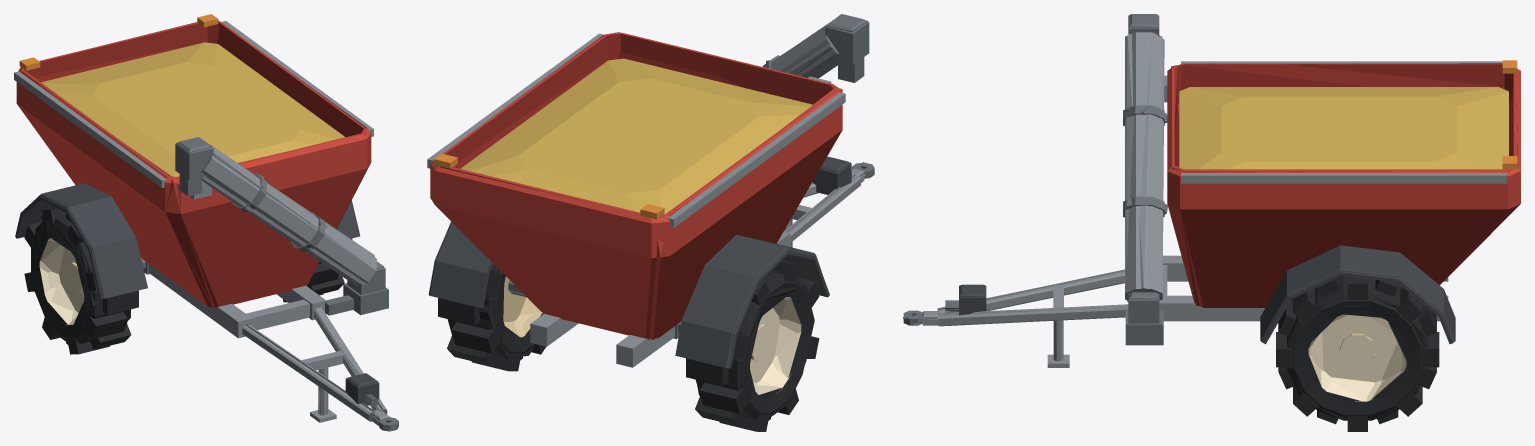
Rendered from FMS_Mach_GrainCart.fbx.
3 renders of one model, left to right at view 1: azimuth 30°, elevation 25°; view 2: azimuth 150°, elevation 25°; view 3: azimuth 270°, elevation 25°, orthographic. The views are drawn at different scales.
Visible parts, largest first — view 1: Hopper, Load_Grain, Load_Grain_Low1, Auger_Unload, Wheel_R, Hopper_Low1, Wheel_R_Low1, Auger_Unload_Low1, Wheel_L; view 2: Hopper, Load_Grain, Load_Grain_Low1, Wheel_R, Hopper_Low1, Wheel_L, Auger_Unload, Wheel_R_Low1, Wheel_L_Low1, Auger_Unload_Low1; view 3: Hopper, Load_Grain, Wheel_L, Hopper_Low1, Auger_Unload, Load_Grain_Low1, Wheel_L_Low1, Auger_Unload_Low1.
Part boxes in pixels (x1,y1,x2,y2): Hopper: (14,14,398,431); Load_Grain: (41,42,305,157); Load_Grain_Low1: (118,60,345,176); Auger_Unload: (175,137,385,294); Wheel_R: (24,207,138,354); Hopper_Low1: (15,20,398,431); Wheel_R_Low1: (27,209,138,354); Auger_Unload_Low1: (176,137,384,285); Wheel_L: (283,238,352,302); Hopper: (427,32,874,368); Load_Grain: (460,90,781,214); Load_Grain_Low1: (509,58,812,210); Wheel_R: (686,260,819,431); Hopper_Low1: (428,32,870,368); Wheel_L: (438,264,545,371); Auger_Unload: (762,14,869,82); Wheel_R_Low1: (686,264,817,430); Wheel_L_Low1: (438,268,544,370); Auger_Unload_Low1: (766,14,867,78); Hopper: (903,60,1520,367); Load_Grain: (1181,87,1508,169); Wheel_L: (1276,275,1439,431); Hopper_Low1: (903,63,1519,361); Auger_Unload: (1123,14,1164,323); Load_Grain_Low1: (1179,87,1335,169); Wheel_L_Low1: (1276,279,1439,424); Auger_Unload_Low1: (1125,14,1167,301).
Bounding box in the file's own units: 3.65 × 3.6 × 6.82.
